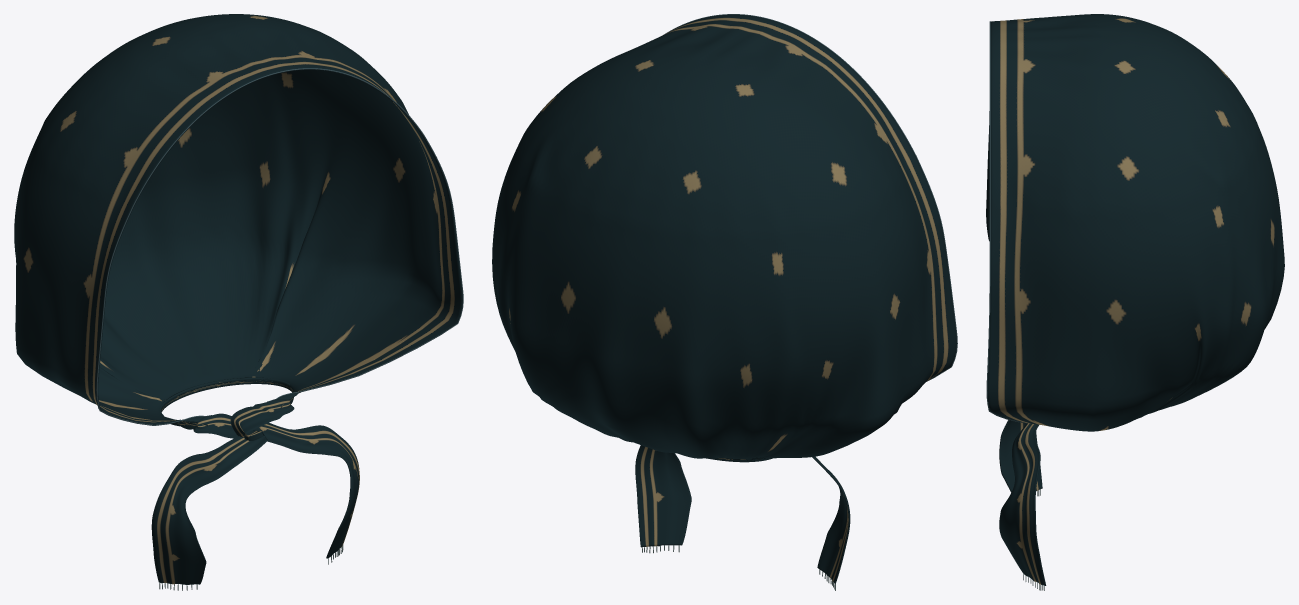
File: Feminine-sweatshirt-pashmina244-headgear.glb
The picture shows the model from 3 angles, left to right: view 1: azimuth 30°, elevation 25°; view 2: azimuth 150°, elevation 25°; view 3: azimuth 270°, elevation 25°; orthographic projection. The views are drawn at different scales.
Parts seen in each view (by area): view 1: 226 headgear / Headwear / continuous woven pashmina239, 226 headgear / Headwear / face edge239; view 2: 226 headgear / Headwear / continuous woven pashmina239, 226 headgear / Headwear / face edge239; view 3: 226 headgear / Headwear / continuous woven pashmina239, 226 headgear / Headwear / face edge239.
Boxes of the visible parts, bbox=[...] form: 226 headgear / Headwear / continuous woven pashmina239: bbox=[14, 14, 462, 584]; 226 headgear / Headwear / face edge239: bbox=[96, 68, 463, 425]; 226 headgear / Headwear / continuous woven pashmina239: bbox=[492, 14, 956, 584]; 226 headgear / Headwear / face edge239: bbox=[664, 14, 957, 381]; 226 headgear / Headwear / continuous woven pashmina239: bbox=[986, 14, 1284, 585]; 226 headgear / Headwear / face edge239: bbox=[986, 21, 1026, 423].
Size of the model in its own units: 1.02 by 1.35 by 0.7116.
3 materials, 1 textured.
